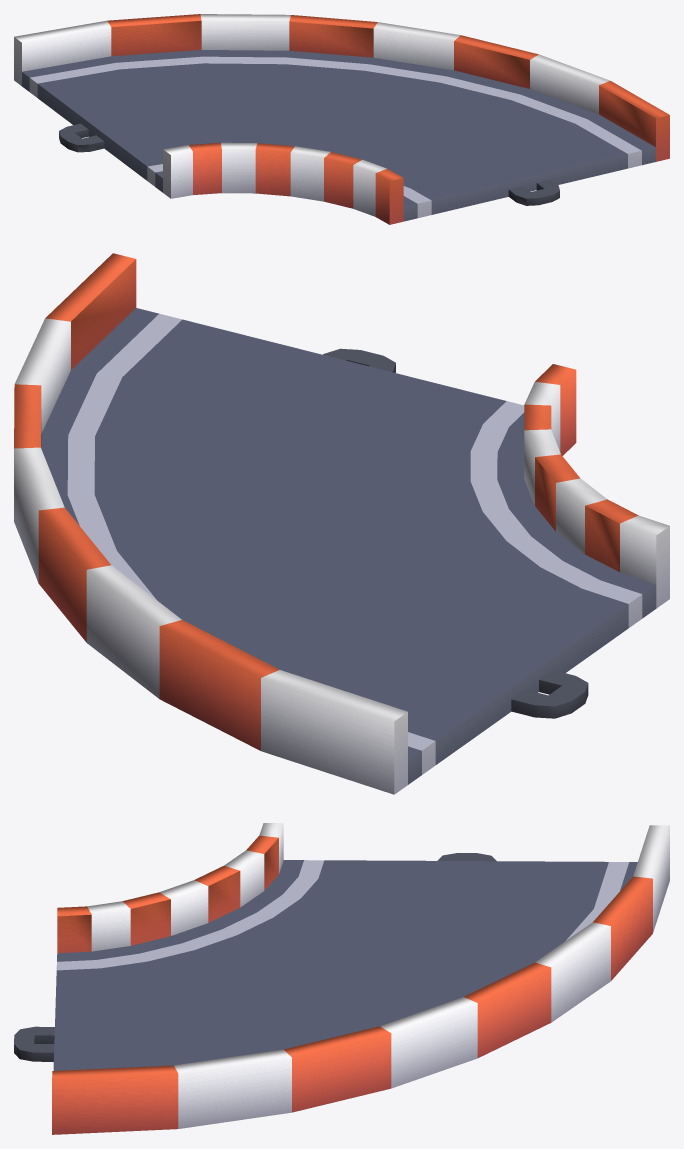
File: track-road-wide-corner-small_lev2.glb
3 renders of one model, top to bottom at view 1: azimuth 30°, elevation 25°; view 2: azimuth 150°, elevation 25°; view 3: azimuth 270°, elevation 25°, orthographic. The views are drawn at different scales.
Parts seen in each view (by area): view 1: track-road-wide-corner-small_lev2; view 2: track-road-wide-corner-small_lev2; view 3: track-road-wide-corner-small_lev2.
Part boxes in pixels (x1,y1,x2,y2): track-road-wide-corner-small_lev2: (14,14,669,224); track-road-wide-corner-small_lev2: (14,253,669,794); track-road-wide-corner-small_lev2: (14,823,669,1134).
Bounding box in the file's own units: 3.17 × 0.3 × 3.23.
Materials: 1 (1 with a texture image).
